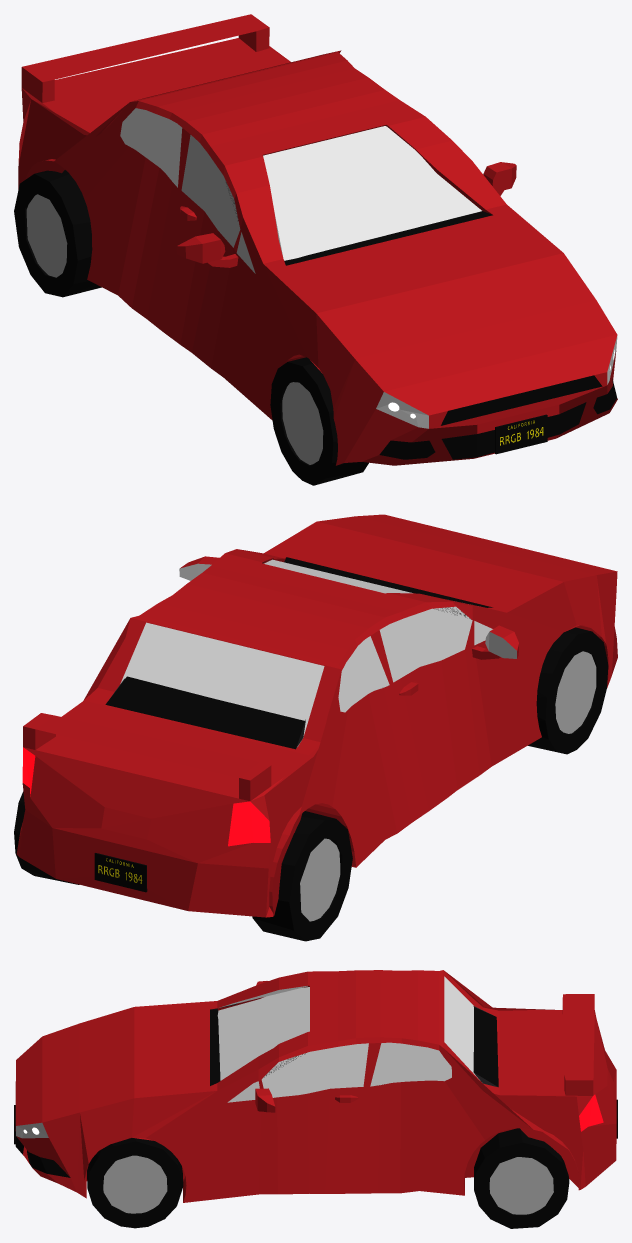
File: 80s Car.glb
The picture shows the model from 3 angles, top to bottom: view 1: azimuth 30°, elevation 25°; view 2: azimuth 150°, elevation 25°; view 3: azimuth 270°, elevation 25°; orthographic projection. The views are drawn at different scales.
Parts seen in each view (by area): view 1: Car Body, Rear Wheels, Front Wheels, CA; view 2: Car Body, Rear Wheels, Front Wheels, CA; view 3: Car Body, Rear Wheels, Front Wheels.
Boxes of the visible parts, left/top/right/bottom form: Car Body: left=18, top=14, right=617, bottom=465; Rear Wheels: left=14, top=170, right=101, bottom=297; Front Wheels: left=270, top=357, right=368, bottom=485; CA: left=495, top=414, right=547, bottom=454; Car Body: left=16, top=514, right=617, bottom=917; Rear Wheels: left=14, top=791, right=352, bottom=941; Front Wheels: left=528, top=627, right=608, bottom=754; CA: left=94, top=853, right=147, bottom=892; Car Body: left=15, top=970, right=616, bottom=1202; Rear Wheels: left=474, top=1128, right=569, bottom=1228; Front Wheels: left=87, top=1138, right=183, bottom=1228.
Size of the model in its own units: 2.94 by 1.91 by 6.02.
